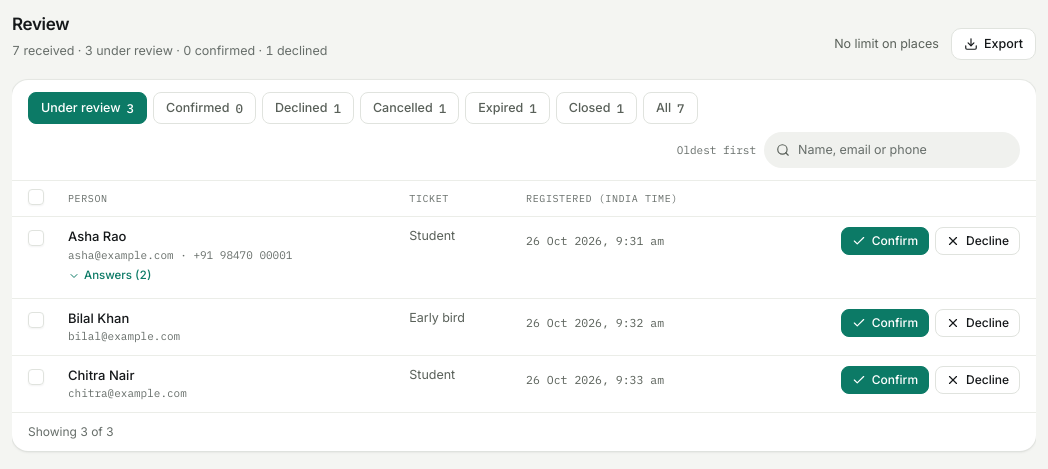
Scenario: the list › names the tabs in the club's words: Expired and Closed only once any are
This screenshot has width=1048, height=469.
Expected: the text "Asha Rao" is shown, [68, 228, 126, 244]
Click the button "Cancelled 1": (410, 108) [360, 92, 459, 124]
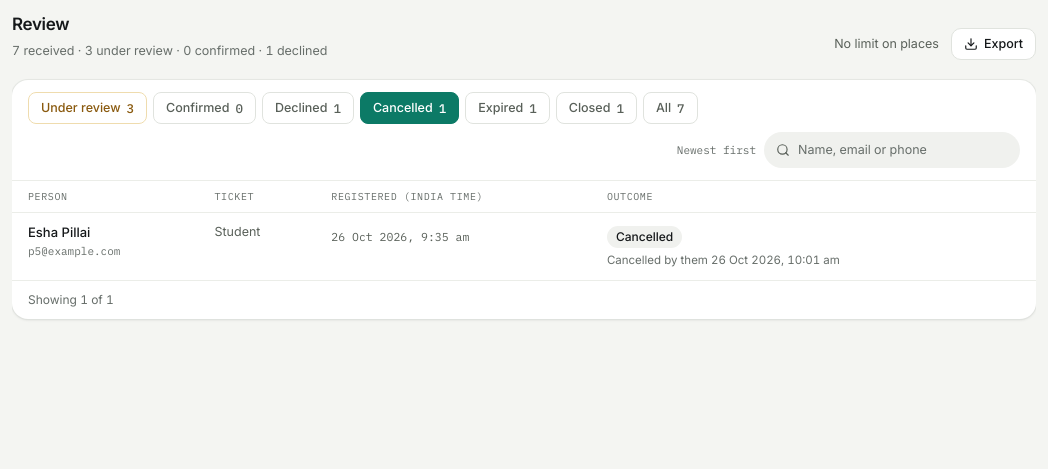
Now the text "Cancelled" is shown, box [607, 226, 682, 248]
Click the button "Expired 1": (508, 108) [465, 92, 550, 124]
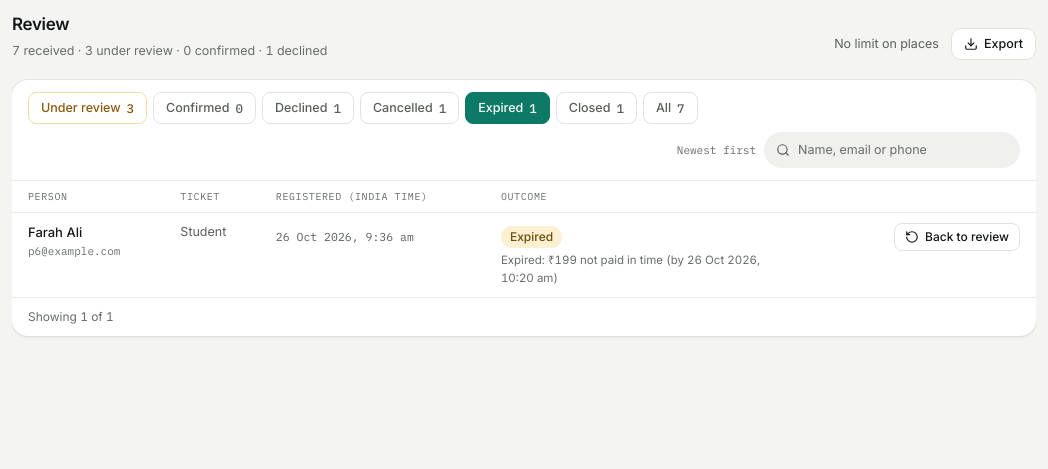
Now the text "Expired" is shown, box [501, 226, 562, 248]
Now the button with aria-label "Put Farah Ali back under review" is shown, box [894, 223, 1020, 251]
